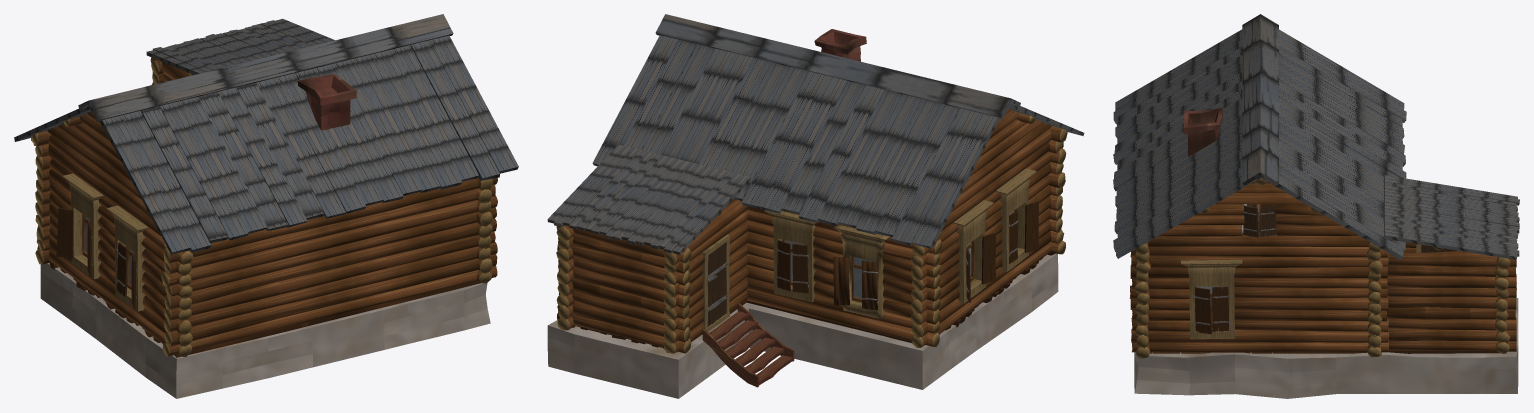
Rendered from MainHouse_FirstAct.fbx.
The picture shows the model from 3 angles, left to right: view 1: azimuth 30°, elevation 25°; view 2: azimuth 150°, elevation 25°; view 3: azimuth 270°, elevation 25°; orthographic projection. The views are drawn at different scales.
Visible parts, largest first — view 1: MainHouse, Roof, Window_3, Window_4, Truba, Cube.030; view 2: Roof, MainHouse, Window_2, Ladder_1, Window_1, Window_4, Window_3, Cube.028, Truba, Cube.030, Proem; view 3: MainHouse, Roof, Window_5, Truba, Cube.015, Cube.030.
Part boxes in pixels (<box>): MainHouse: <box>31,57,497,398</box>; Roof: <box>14,14,518,254</box>; Window_3: <box>56,173,103,279</box>; Window_4: <box>106,205,148,311</box>; Truba: <box>297,74,356,130</box>; Cube.030: <box>49,261,481,357</box>; Roof: <box>547,14,1084,254</box>; MainHouse: <box>547,108,1067,398</box>; Window_2: <box>833,225,889,319</box>; Ladder_1: <box>702,303,794,387</box>; Window_1: <box>764,210,816,302</box>; Window_4: <box>995,168,1038,271</box>; Window_3: <box>953,200,995,303</box>; Cube.028: <box>707,242,727,326</box>; Truba: <box>814,29,866,61</box>; Cube.030: <box>572,252,1055,352</box>; Proem: <box>701,234,729,331</box>; MainHouse: <box>1129,178,1518,398</box>; Roof: <box>1113,14,1519,259</box>; Window_5: <box>1181,259,1242,339</box>; Truba: <box>1183,108,1222,156</box>; Cube.015: <box>1243,205,1276,237</box>; Cube.030: <box>1150,218,1499,353</box>.
Bounding box in the file's own units: 1828 × 1277 × 1988.
Materials: 2 (2 with a texture image).
